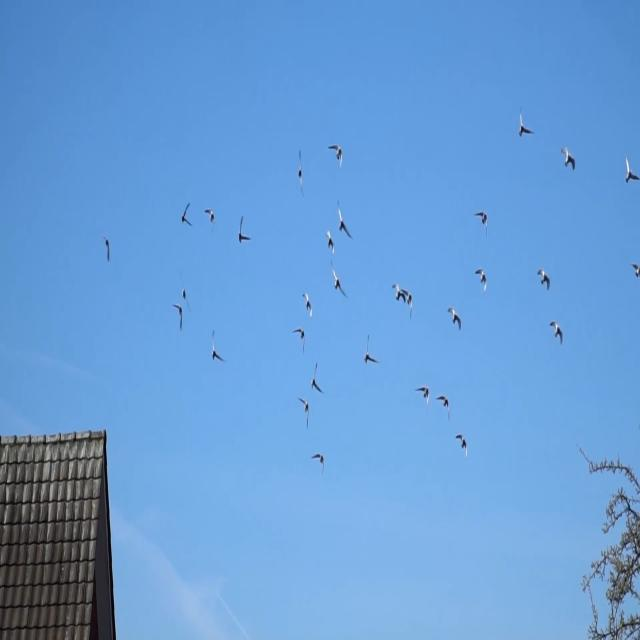bird: (334, 198, 356, 240), (178, 265, 193, 318), (327, 259, 347, 298), (210, 327, 228, 368), (362, 332, 380, 367), (309, 359, 326, 396), (518, 106, 535, 140), (622, 153, 640, 185), (295, 147, 306, 198), (472, 210, 490, 240), (399, 286, 414, 322), (237, 212, 252, 247), (413, 385, 431, 414), (434, 393, 451, 422), (297, 396, 310, 433), (180, 201, 196, 231), (291, 325, 306, 356), (326, 144, 345, 168), (171, 302, 186, 332), (473, 267, 488, 296), (560, 145, 576, 172), (100, 227, 112, 263), (310, 451, 326, 478), (447, 304, 462, 332), (548, 319, 564, 345), (391, 282, 406, 309), (301, 290, 313, 323), (323, 227, 337, 255), (455, 432, 469, 460), (536, 266, 551, 291), (203, 205, 216, 233), (629, 260, 640, 279)
